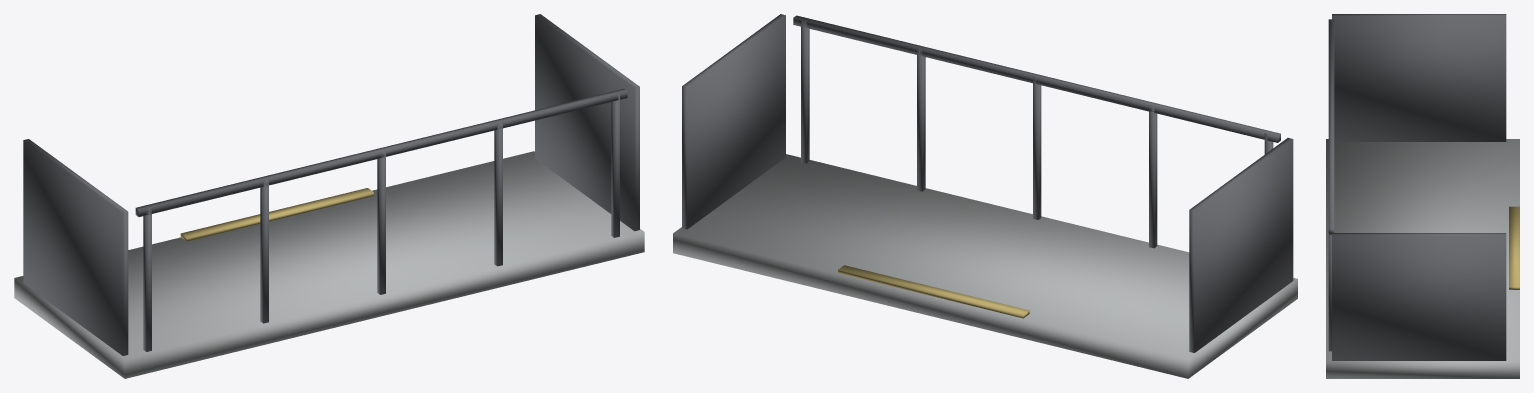
File: motel_w380_d140_door.glb
3 views of the same model, side by side, from view 1: azimuth 30°, elevation 25°; view 2: azimuth 150°, elevation 25°; view 3: azimuth 270°, elevation 25° (orthographic). The views are drawn at different scales.
Parts seen in each view (by area): view 1: world; view 2: world; view 3: world.
Boxes of the visible parts, x1,y1,x2,y2 form: world: (14,14,644,378); world: (673,14,1297,378); world: (1326,14,1519,378).
Bounding box in the file's own units: 3.8 × 1.14 × 1.4.
